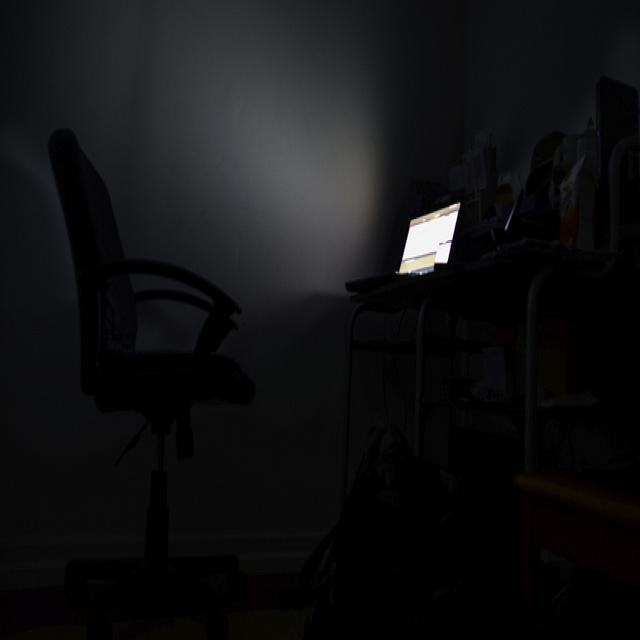Table: (324, 77, 639, 640)
chair: (38, 114, 267, 631)
